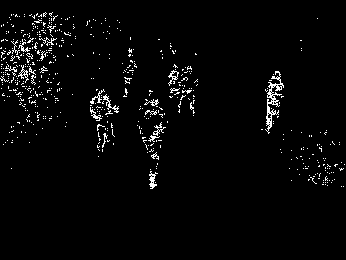person: (136, 91, 168, 193), (89, 85, 120, 155), (261, 69, 286, 136), (184, 64, 199, 119), (170, 62, 182, 100)
